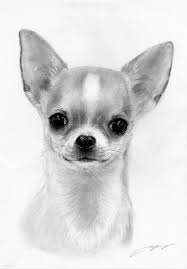chihuahua: (5, 20, 184, 260)
